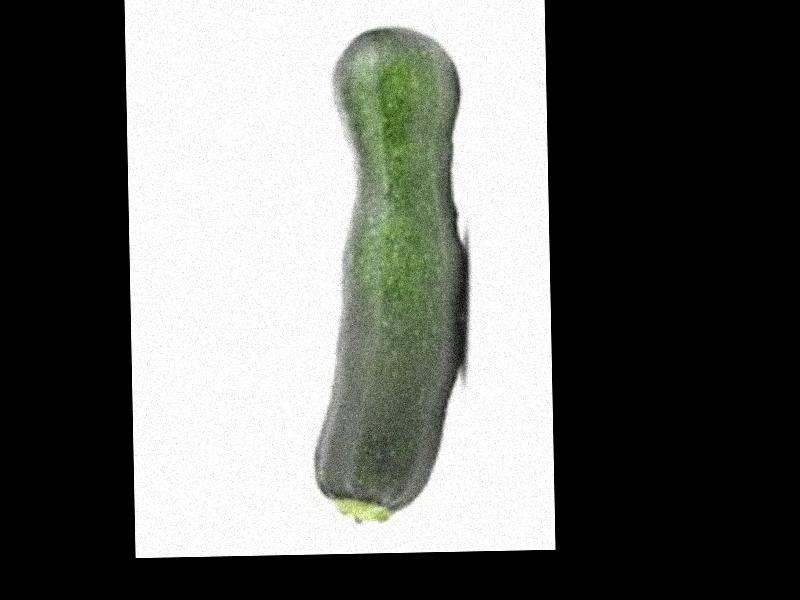Cucumber: (304, 26, 470, 525)
